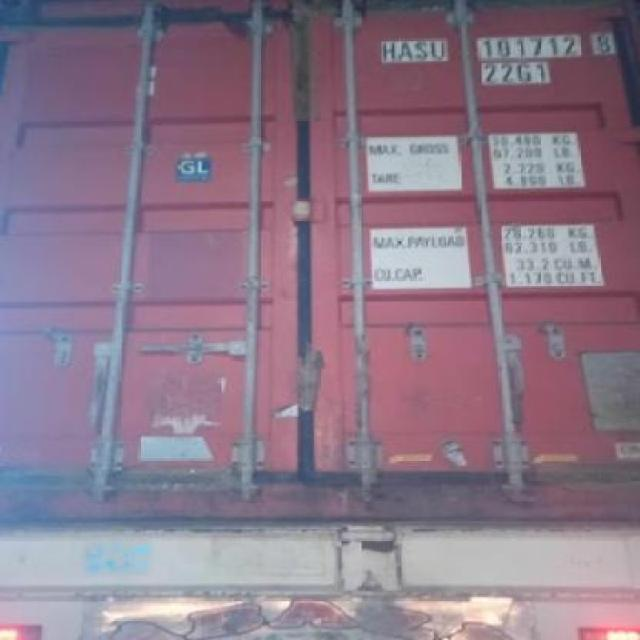ISO: (481, 64, 552, 88)
container_number: (382, 32, 614, 61)
